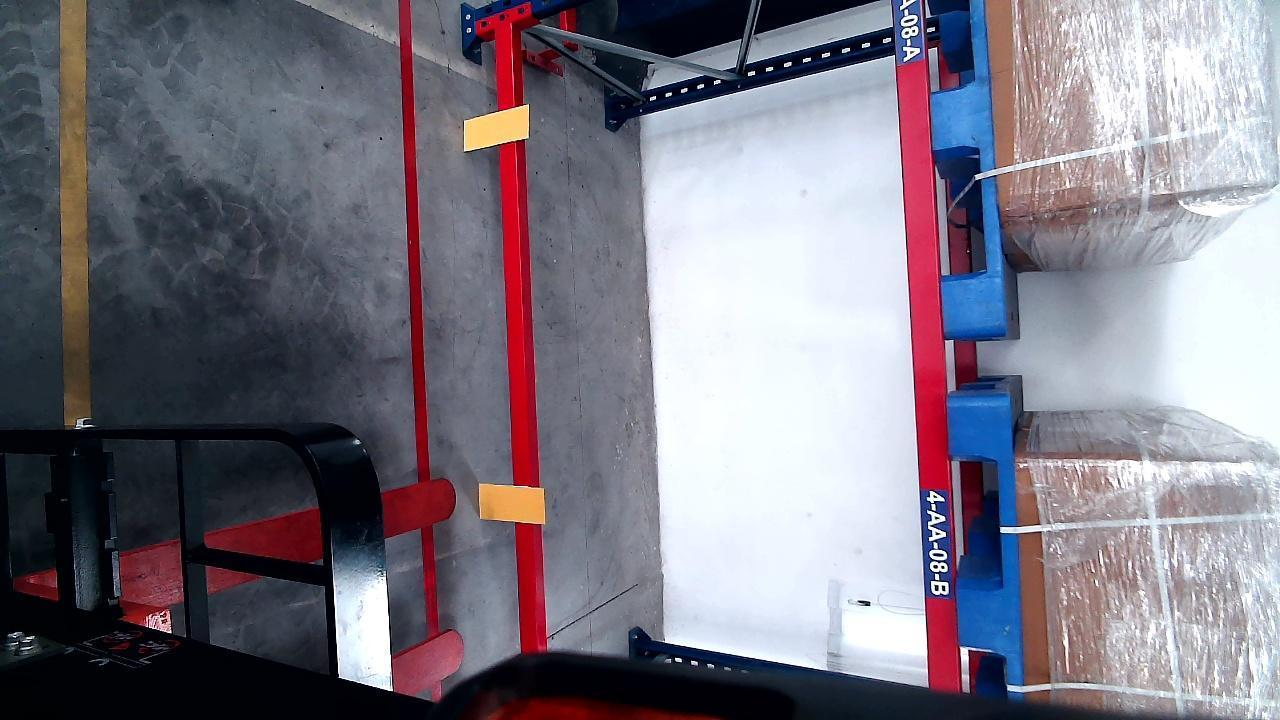h_rack: (492, 13, 545, 673), (8, 568, 67, 597)
orange_strip: (462, 105, 528, 151), (478, 483, 545, 523)
small_pallet: (921, 0, 1006, 337), (951, 399, 1022, 694)
yellow_line: (58, 0, 92, 421)
